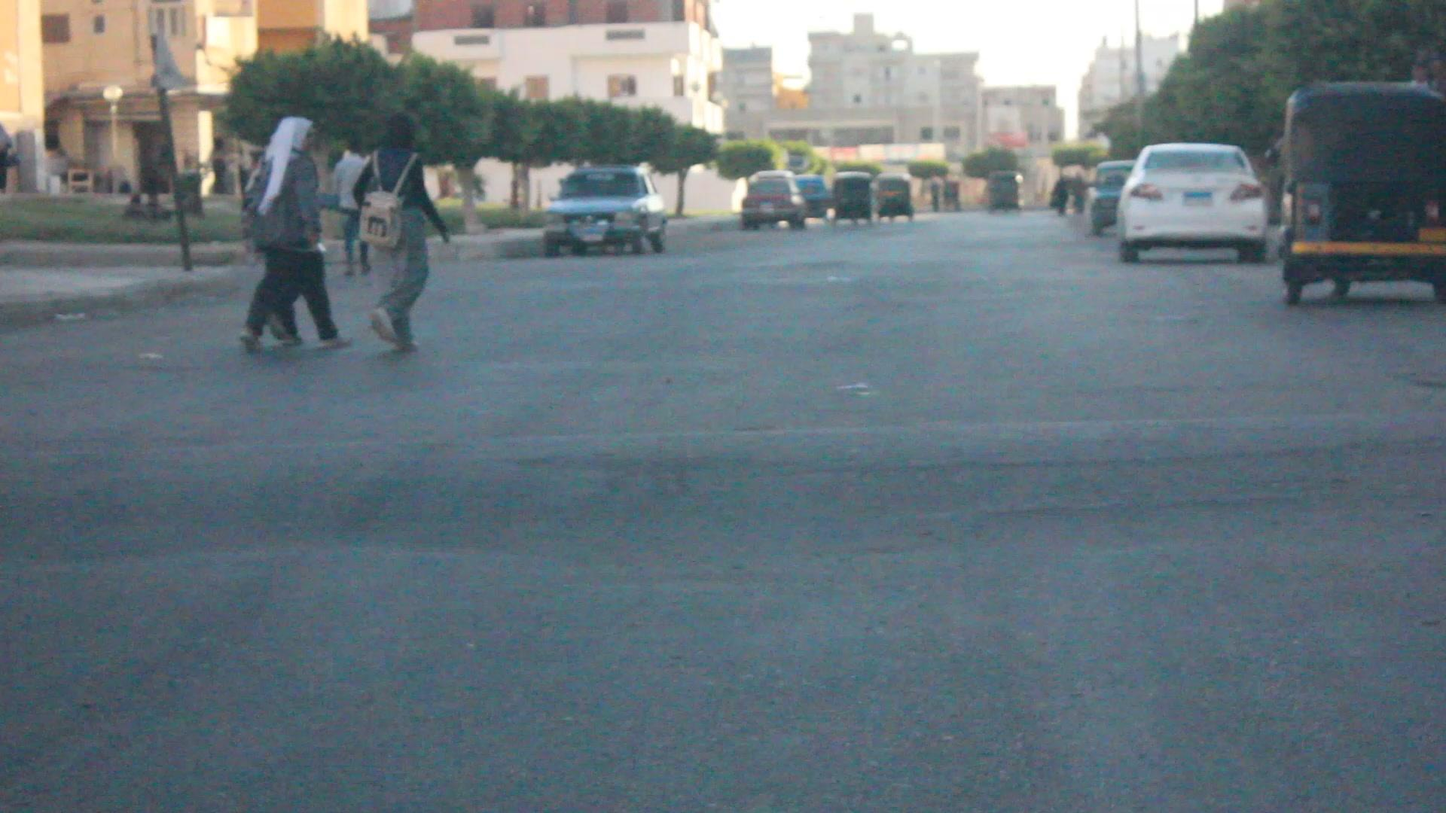Bump: (8, 401, 1446, 557)
